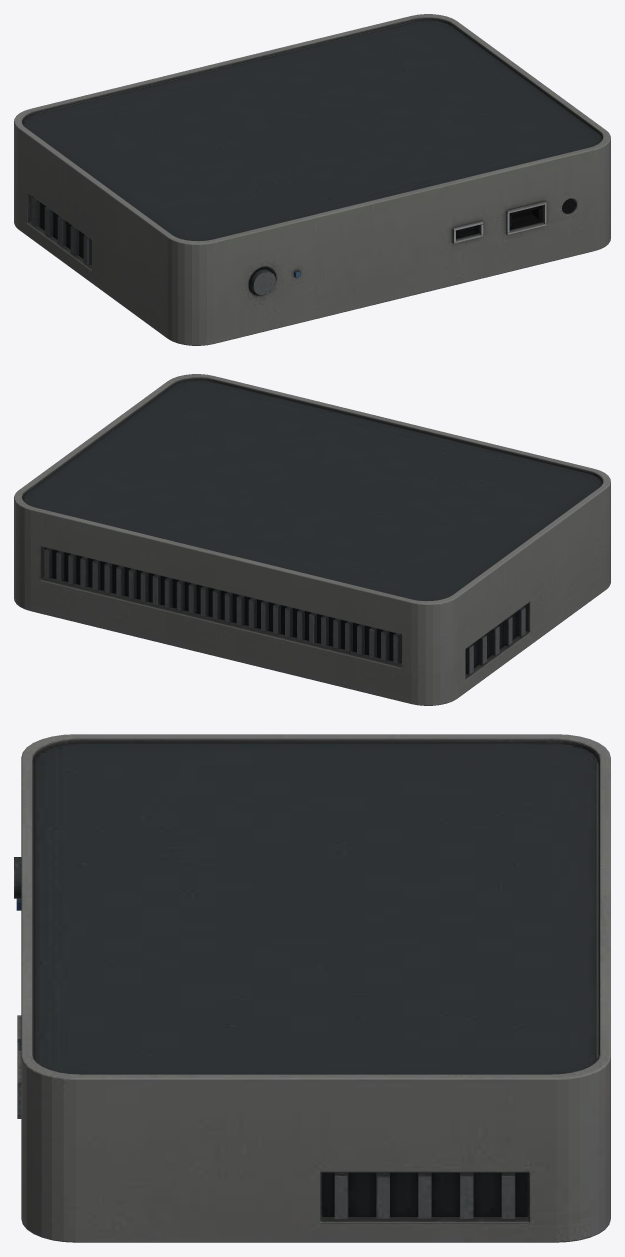
The model's file is modern-b.glb.
3 renders of one model, top to bottom at view 1: azimuth 30°, elevation 25°; view 2: azimuth 150°, elevation 25°; view 3: azimuth 270°, elevation 25°, orthographic. The views are drawn at different scales.
Visible parts, largest first — view 1: base; view 2: base; view 3: base.
Boxes of the visible parts, x1,y1,x2,y2 form: base: (14, 14, 610, 345); base: (14, 374, 610, 705); base: (14, 734, 610, 1242).
Bounding box in the file's own units: 0.18 × 0.042 × 0.1316.
1 material, 1 textured.
